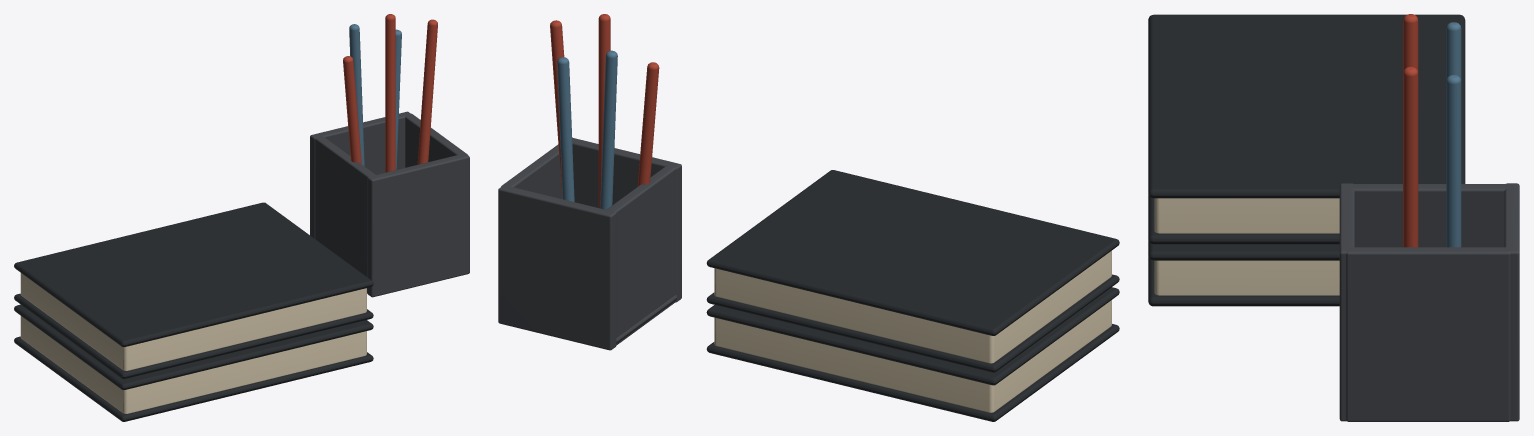
Rendered from estacoes_acessorios_escritorio.glb.
3 renders of one model, left to right at view 1: azimuth 30°, elevation 25°; view 2: azimuth 150°, elevation 25°; view 3: azimuth 270°, elevation 25°, orthographic. The views are drawn at different scales.
Visible parts, largest first — view 1: acessorios_escritorio; view 2: acessorios_escritorio; view 3: acessorios_escritorio.
Part boxes in pixels (x1,y1,x2,y2): acessorios_escritorio: (14,14,469,421); acessorios_escritorio: (498,14,1119,421); acessorios_escritorio: (1148,14,1519,421).
Bounding box in the file's own units: 0.273 × 0.16 × 0.1465.
